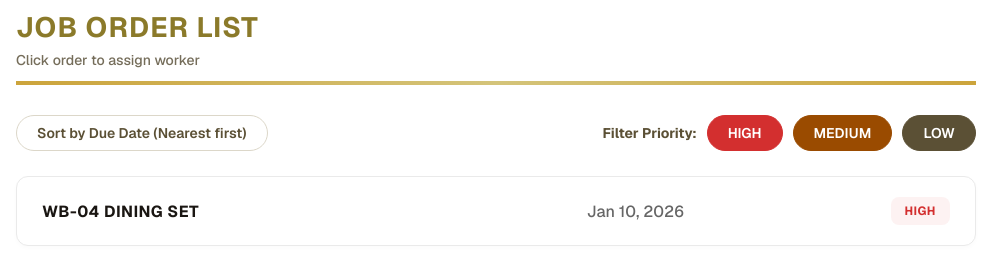
JobOrder › toggles sort direction and requests sort=desc
Expected: the text "Dining Set" is shown, [104,200,199,222]
Click the button "Sort by Due Date (Nearest first)": (142, 133) [16,115,268,151]
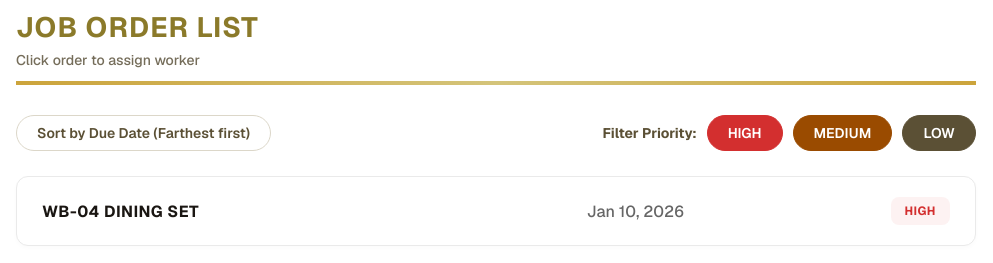
Now the button "Sort by Due Date (Farthest first)" is shown, box [16,115,271,151]
